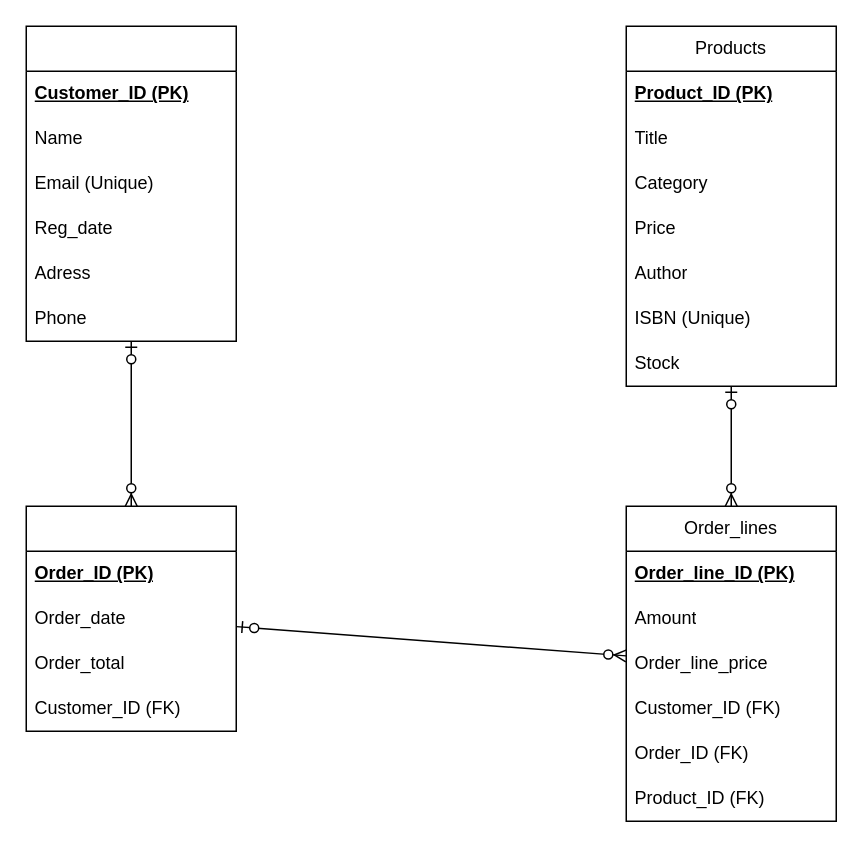
The diagram is 863 pixels wide and 848 high, and some of its shapes have lost their labels. Here are the shapes that lost their labels. From the top down, the box of each, then its label:
(25, 25, 236, 341): Customers
(25, 505, 236, 731): Orders
